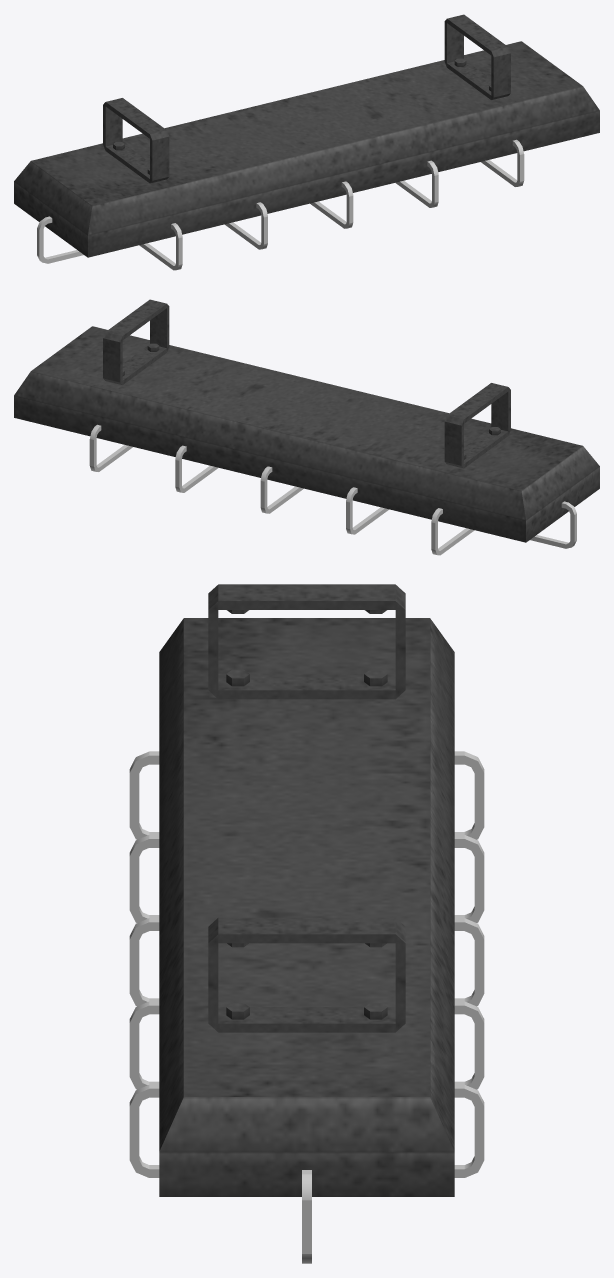
Rendered from ceiling_lamp_4_1_a_off.obj.
The picture shows the model from 3 angles, top to bottom: view 1: azimuth 30°, elevation 25°; view 2: azimuth 150°, elevation 25°; view 3: azimuth 270°, elevation 25°; orthographic projection. The views are drawn at different scales.
Visible parts, largest first — view 1: ceiling_lamp_4_1_a_off, ceiling_lamp_4_1_a_off_protector; view 2: ceiling_lamp_4_1_a_off, ceiling_lamp_4_1_a_off_protector; view 3: ceiling_lamp_4_1_a_off, ceiling_lamp_4_1_a_off_protector.
Part boxes in pixels (x1,y1,x2,y2): ceiling_lamp_4_1_a_off: (14, 14, 599, 257); ceiling_lamp_4_1_a_off_protector: (37, 139, 524, 270); ceiling_lamp_4_1_a_off: (14, 299, 599, 542); ceiling_lamp_4_1_a_off_protector: (89, 424, 576, 555); ceiling_lamp_4_1_a_off: (159, 584, 454, 1196); ceiling_lamp_4_1_a_off_protector: (129, 751, 484, 1263).
Size of the model in its own units: 1.26 by 0.28 by 0.36.
